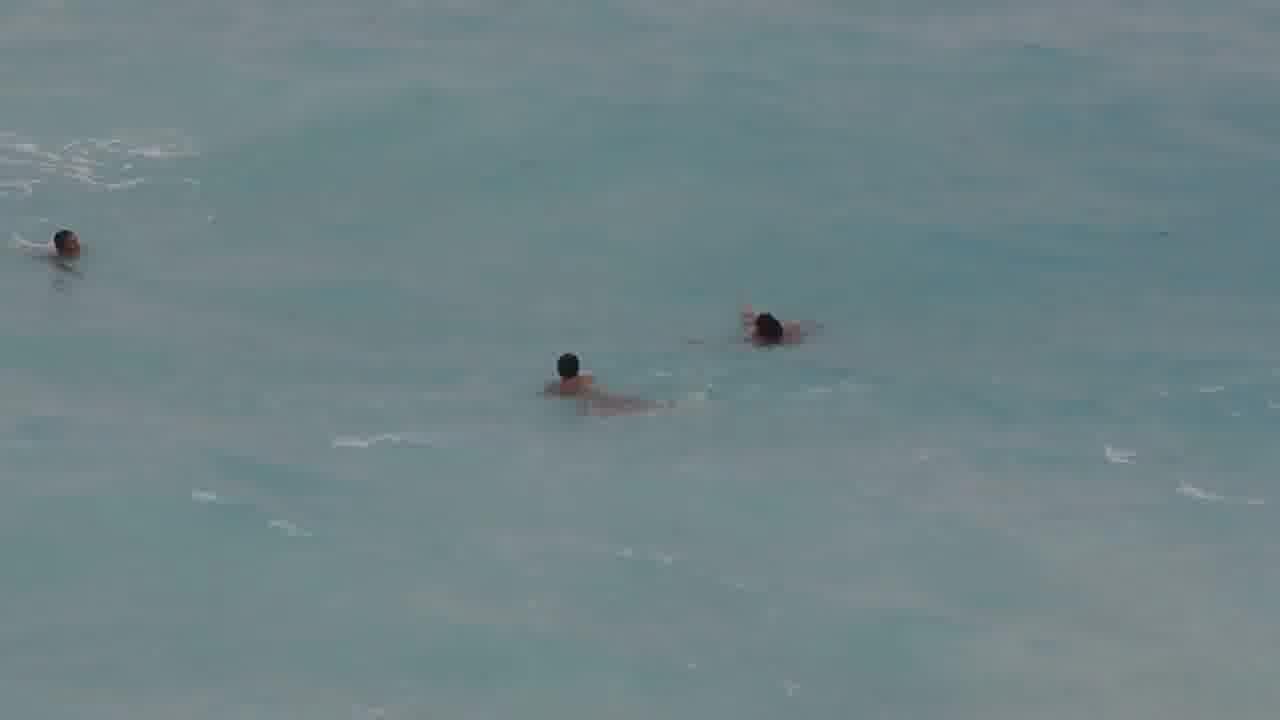swimmer: (535, 353, 610, 399), (30, 224, 107, 268), (734, 310, 805, 357)
